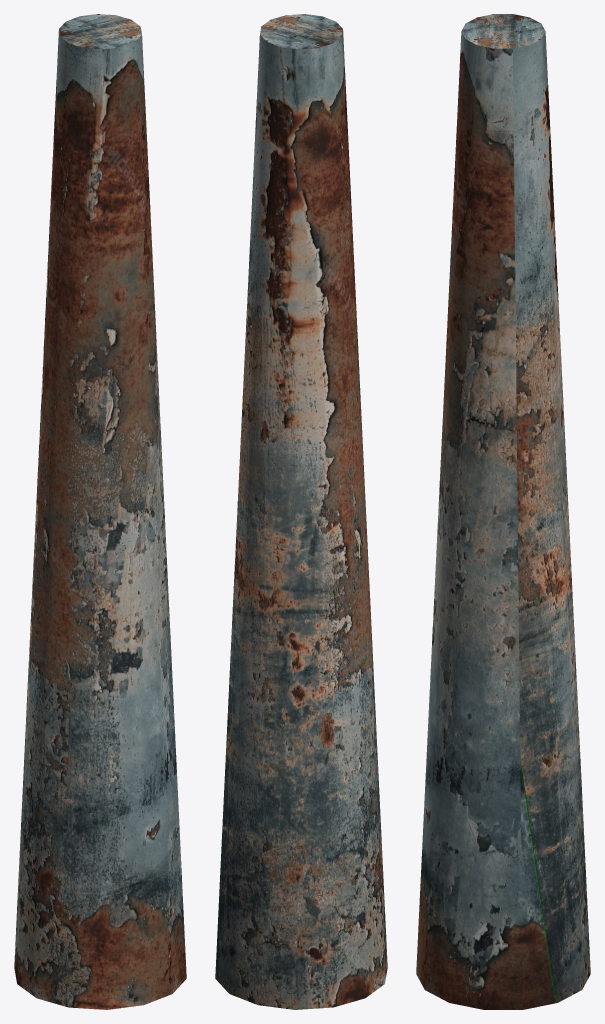
The model's file is Pipe.fbx.
3 renders of one model, left to right at view 1: azimuth 30°, elevation 25°; view 2: azimuth 150°, elevation 25°; view 3: azimuth 270°, elevation 25°, orthographic.
Visible parts, largest first — view 1: Pipe; view 2: Pipe; view 3: Pipe.
Part boxes in pixels (box(x1,y1,x2,y2)): Pipe: box(14, 14, 186, 1009); Pipe: box(215, 14, 387, 1009); Pipe: box(416, 14, 590, 1009).
Size of the model in its own units: 86.24 by 527 by 88.46.
